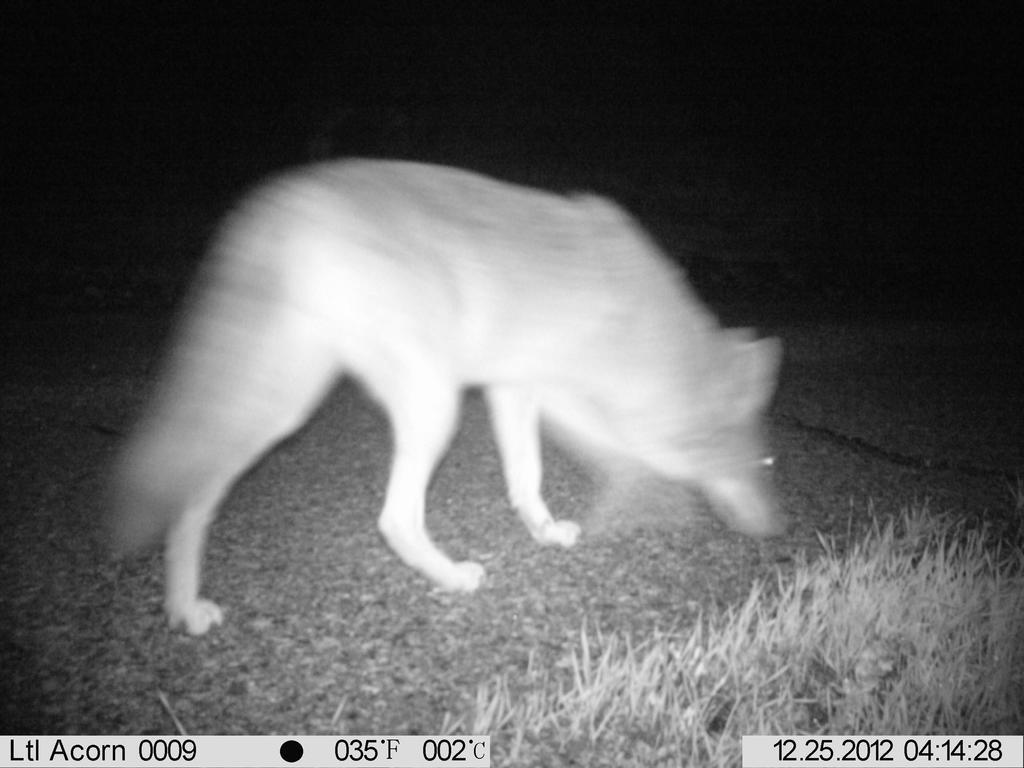coyote: (89, 145, 801, 645)
